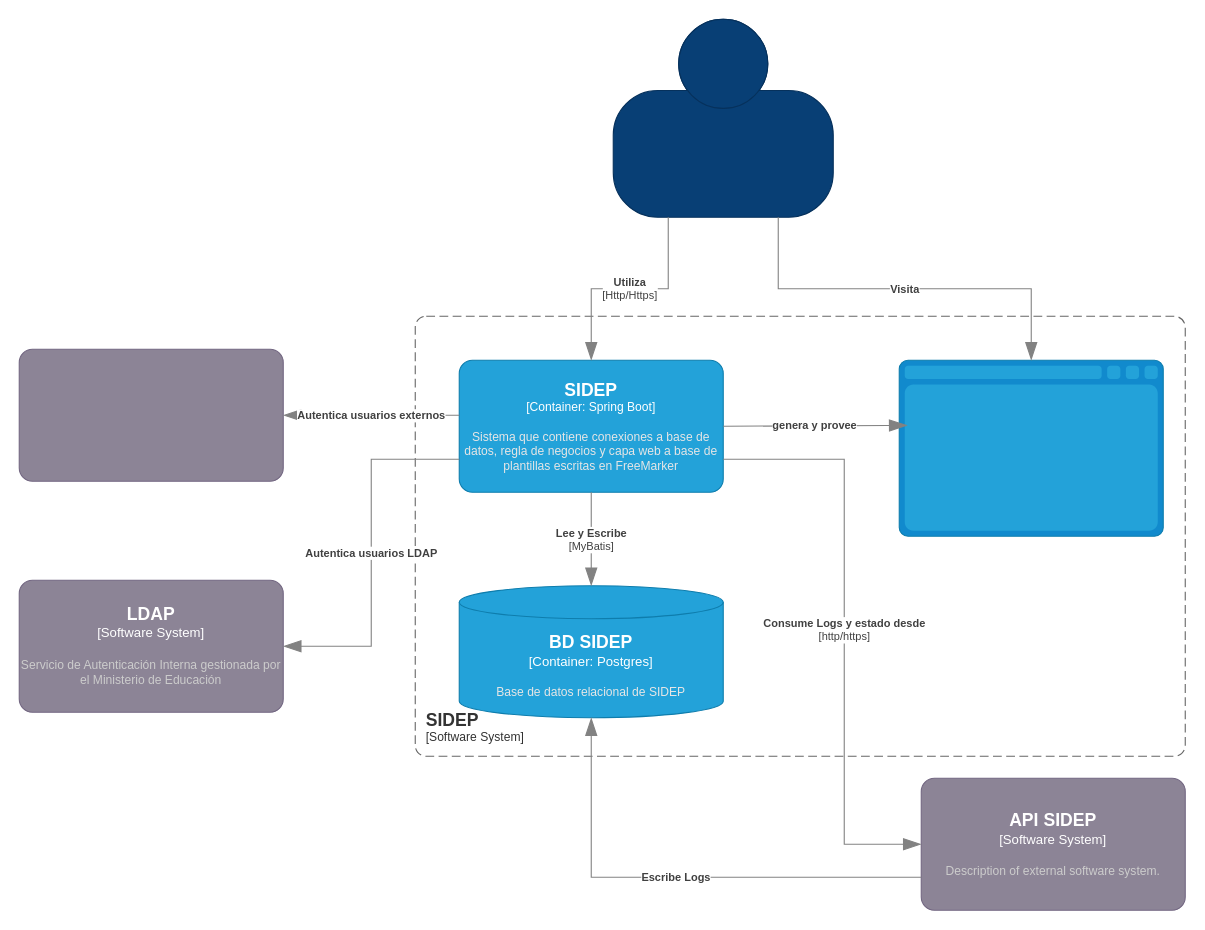
The diagram is 1205 pixels wide and 930 high, and some of its shapes have lost their labels. The centre of each missing label's shape, as x and y in pixels:
"Clave Única [Software System] Sistema de autenticación gubernamental" goes at (150,414).
"SIDEP WEB [Container: FTL / HTML] Sitio web estático de SIDEP" goes at (1030,447).
"Usuario [Person] Persona o Insticución que será usuaria del sistema SIDEP" goes at (722,117).
